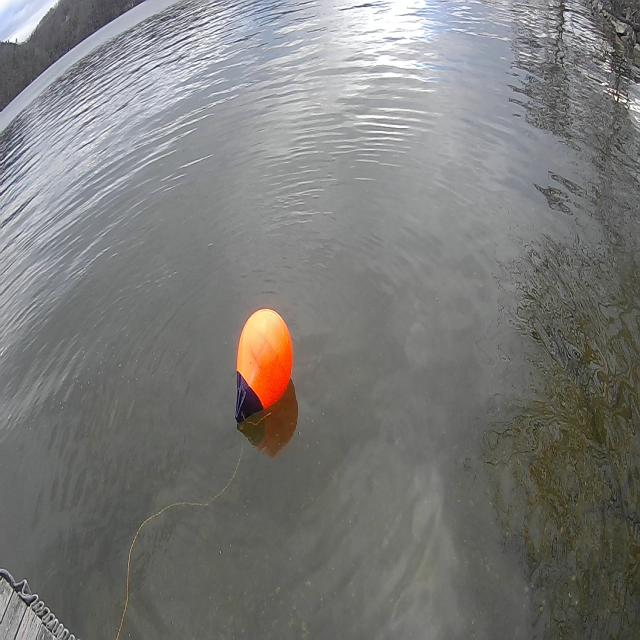Buoy: (235, 301, 296, 418)
